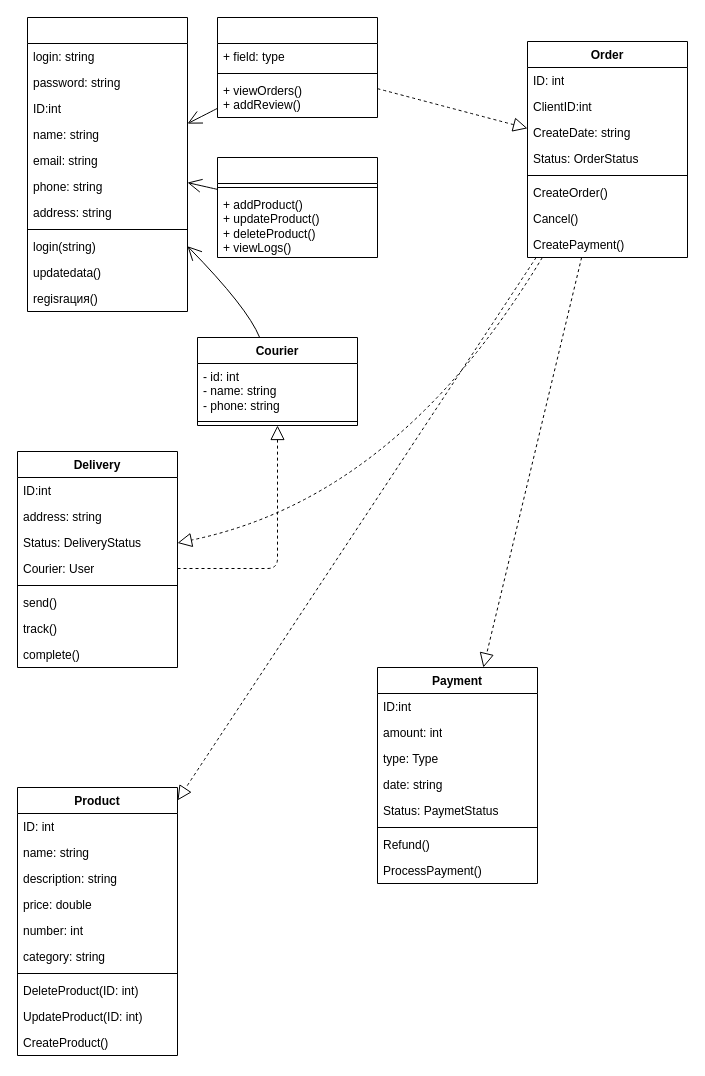
This 705x1076 diagram has some shape labels left out. The box of each missing label's shape, as (x1, y1, x2, y2) in pixels:
AbsractUser: (26, 16, 188, 312)
Admin: (216, 156, 378, 258)
Customer: (216, 16, 378, 118)
